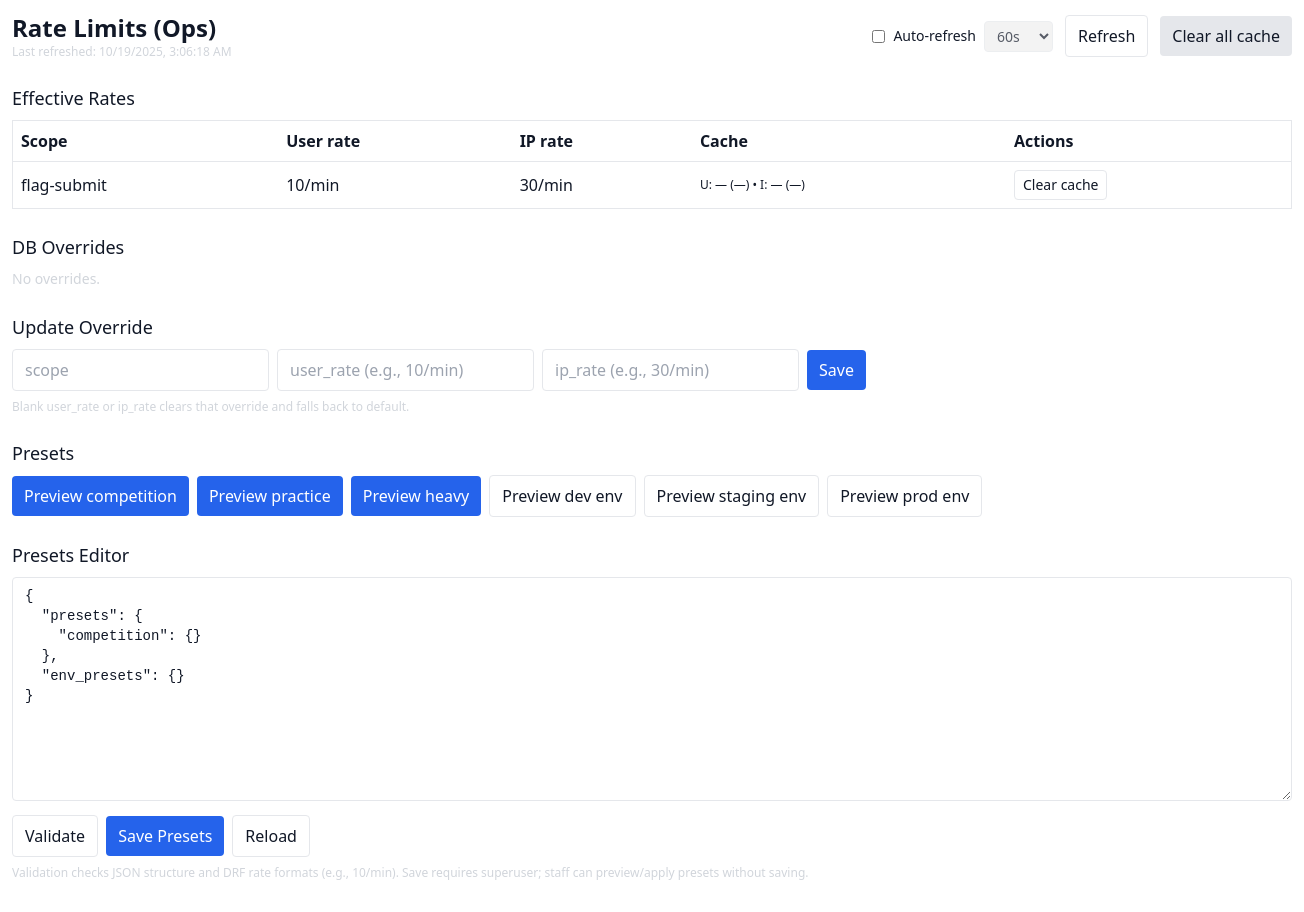
Test: Ops Rate Limits failure cases › Refresh failure shows error toast and retains existing data
Expected: the heading "Rate Limits (Ops)" is shown, [12,12,232,44]
Expected: the text "flag-submit" is shown, [12,162,278,208]
Click Refresh
What coordinates should you click on to do the following:
click the button "Refresh"
I would click on:
 (1107, 36)
Its box is [1065,15,1148,57].
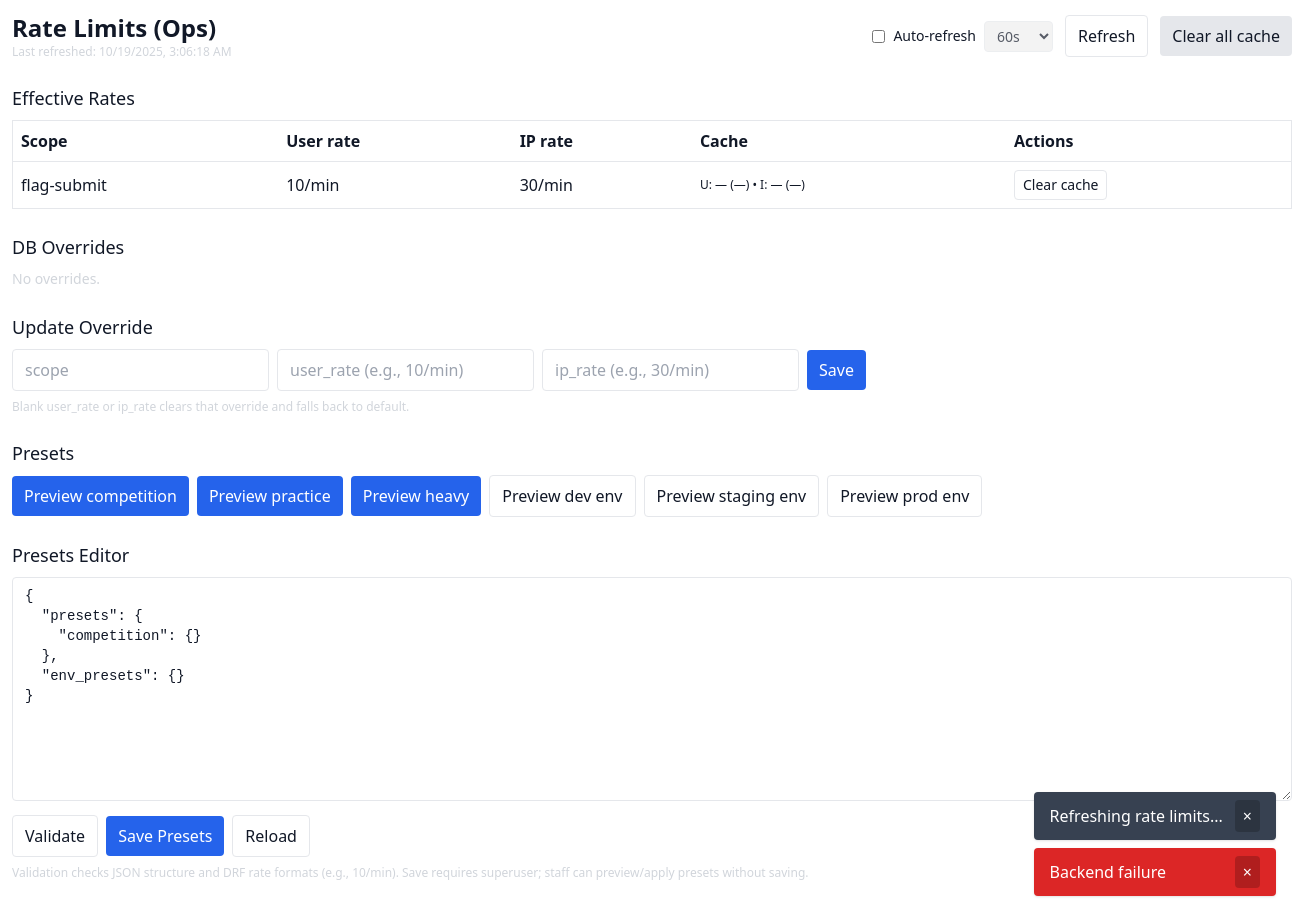
Expected: the text "flag-submit" is shown, [12,162,278,208]
Now the text "Backend failure" is shown, box [1050,860,1166,884]
